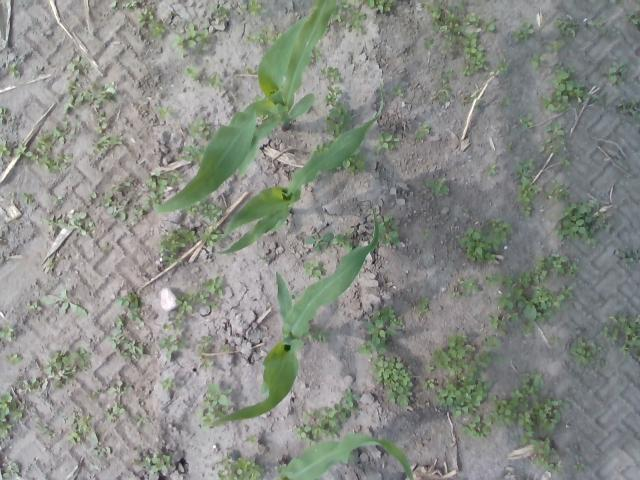Maize: (156, 0, 338, 213), (215, 204, 378, 426), (215, 80, 384, 258), (266, 433, 414, 480)
Weeds: (296, 388, 360, 444), (489, 369, 544, 426), (494, 284, 574, 322), (515, 392, 571, 446), (552, 198, 612, 248), (454, 217, 513, 265), (433, 376, 494, 419), (540, 60, 590, 112), (356, 305, 404, 357), (370, 354, 416, 408), (424, 332, 475, 376), (43, 346, 93, 388), (61, 77, 116, 114), (424, 0, 464, 44), (156, 226, 198, 267), (514, 158, 543, 217), (106, 314, 143, 360), (197, 382, 230, 432), (600, 313, 640, 354), (42, 208, 96, 238), (40, 288, 88, 318), (169, 22, 210, 56), (529, 436, 563, 475), (567, 336, 608, 368), (459, 31, 488, 76), (0, 390, 25, 438), (534, 252, 578, 279), (176, 288, 218, 316), (216, 456, 264, 480), (325, 8, 367, 34), (182, 195, 222, 222), (324, 102, 352, 140), (66, 409, 95, 444), (538, 120, 566, 156), (30, 152, 74, 174), (468, 350, 504, 376), (144, 171, 168, 209), (374, 215, 402, 245), (132, 453, 170, 475), (460, 414, 493, 439), (104, 187, 128, 221), (341, 146, 368, 176), (156, 334, 186, 361), (245, 26, 282, 45), (91, 134, 122, 156), (113, 289, 145, 310), (178, 144, 207, 167), (544, 177, 570, 202), (194, 335, 213, 369), (303, 230, 331, 252), (450, 278, 480, 298), (603, 60, 628, 84), (300, 325, 332, 343), (186, 118, 212, 140), (89, 429, 108, 458), (198, 223, 220, 248), (331, 228, 355, 250), (556, 14, 580, 36), (373, 132, 399, 152), (511, 20, 534, 42), (32, 132, 54, 155), (424, 177, 450, 196), (301, 259, 324, 280), (162, 314, 186, 334), (66, 55, 90, 75), (106, 379, 133, 396), (52, 120, 70, 145), (432, 82, 452, 104), (202, 274, 224, 294), (486, 315, 508, 335), (484, 273, 513, 288), (240, 0, 264, 18), (619, 100, 640, 120), (93, 108, 109, 134), (148, 22, 168, 42), (323, 85, 342, 106), (102, 404, 124, 422), (617, 248, 640, 265), (462, 11, 483, 28), (366, 0, 393, 13), (517, 112, 536, 130), (520, 319, 538, 338), (320, 65, 340, 82), (137, 8, 154, 28), (183, 62, 200, 82), (587, 18, 608, 34), (517, 268, 534, 287), (164, 168, 184, 184), (12, 142, 32, 158), (482, 334, 503, 349), (544, 39, 565, 54), (211, 5, 229, 22), (311, 140, 334, 153), (1, 464, 22, 478), (414, 296, 431, 313), (529, 52, 547, 68), (158, 376, 176, 392), (205, 73, 224, 88), (22, 378, 42, 392), (36, 420, 51, 438), (0, 322, 14, 340), (310, 45, 323, 63), (5, 352, 23, 365), (416, 123, 431, 138), (130, 210, 144, 226), (126, 310, 143, 323), (0, 138, 11, 158), (154, 105, 172, 117), (420, 378, 436, 391), (438, 66, 452, 80), (28, 300, 44, 312), (494, 60, 508, 73), (336, 0, 362, 7), (628, 11, 640, 26), (484, 17, 496, 32), (7, 63, 19, 78), (240, 64, 256, 75), (19, 192, 34, 203), (440, 40, 452, 53), (590, 91, 604, 102), (134, 414, 148, 425), (50, 194, 64, 205), (123, 0, 138, 10), (573, 460, 585, 472), (424, 38, 434, 52), (390, 86, 404, 96), (486, 164, 498, 175), (420, 227, 430, 240), (501, 94, 511, 107), (608, 0, 626, 7), (120, 181, 132, 191), (45, 258, 57, 268), (548, 336, 560, 346), (328, 166, 342, 174), (88, 192, 99, 202), (0, 107, 6, 125), (559, 157, 571, 165), (458, 207, 468, 216), (506, 141, 514, 152), (89, 392, 100, 400), (465, 92, 473, 102), (246, 434, 256, 442), (109, 0, 118, 8), (168, 10, 176, 18)
